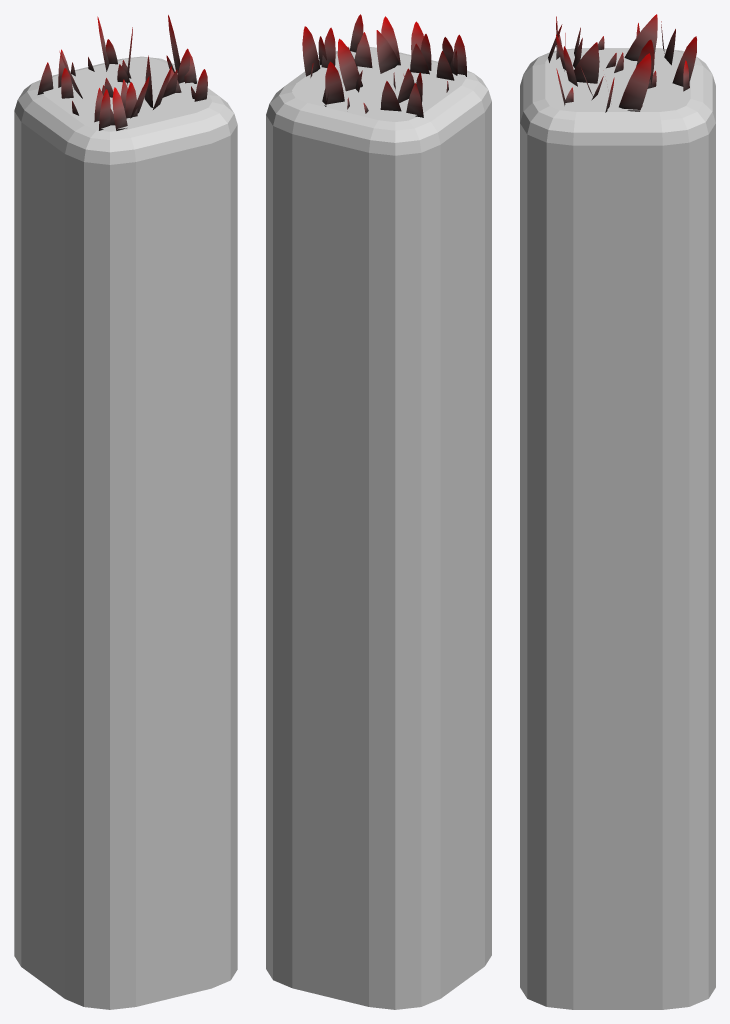
File: f_GrassTileModel_3.fbx
3 renders of one model, left to right at view 1: azimuth 30°, elevation 25°; view 2: azimuth 150°, elevation 25°; view 3: azimuth 270°, elevation 25°, orthographic. The views are drawn at different scales.
Visible parts, largest first — view 1: Stone.002, Grass.004, GrassGround.004; view 2: Stone.002, Grass.004, GrassGround.004; view 3: Stone.002, GrassGround.004, Grass.004.
Part boxes in pixels (x1,y1,x2,y2): Stone.002: (14,56,237,1009); Grass.004: (37,15,207,130); GrassGround.004: (43,57,211,129); Stone.002: (266,47,491,1009); Grass.004: (302,14,466,117); GrassGround.004: (292,47,465,120); Stone.002: (520,48,715,1009); GrassGround.004: (545,49,690,110); Grass.004: (548,14,696,112).
Bounding box in the file's own units: 1 × 5.32 × 1.
